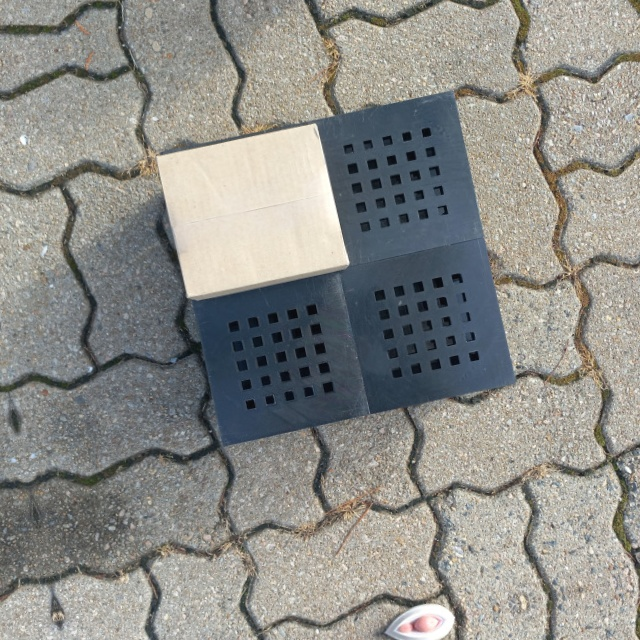box: (151, 119, 351, 303)
pallet: (153, 82, 538, 462)
